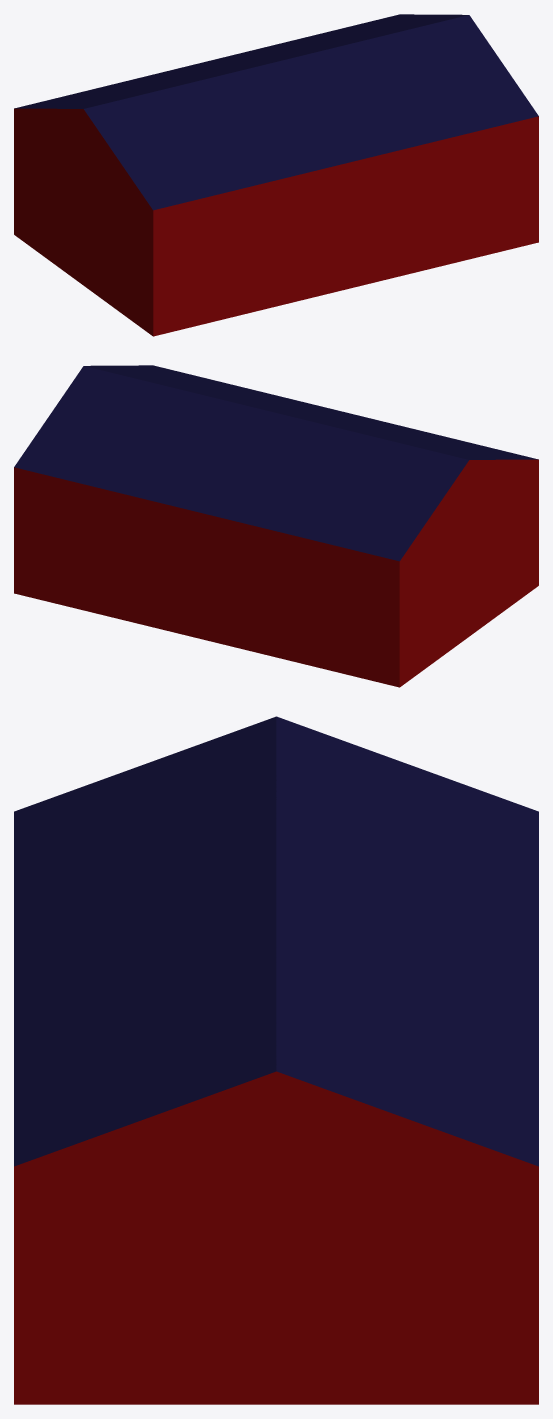
The model's file is miner_house.fbx.
3 views of the same model, one above another, from view 1: azimuth 30°, elevation 25°; view 2: azimuth 150°, elevation 25°; view 3: azimuth 270°, elevation 25° (orthographic). The views are drawn at different scales.
Visible parts, largest first — view 1: Плоскость; view 2: Плоскость; view 3: Плоскость.
Part boxes in pixels (bbox=[...]): Плоскость: bbox=[14, 14, 538, 336]; Плоскость: bbox=[14, 365, 538, 687]; Плоскость: bbox=[14, 716, 538, 1404].
Bounding box in the file's own units: 1600 × 700 × 1000.
